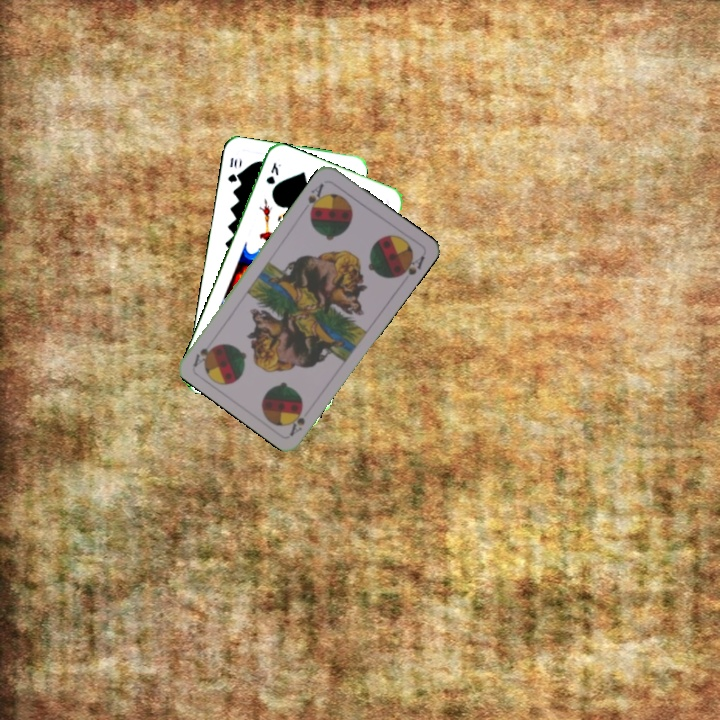G10: (224, 154, 240, 185)
GK: (262, 158, 284, 187)
SA: (304, 179, 327, 217), (284, 402, 308, 438)
